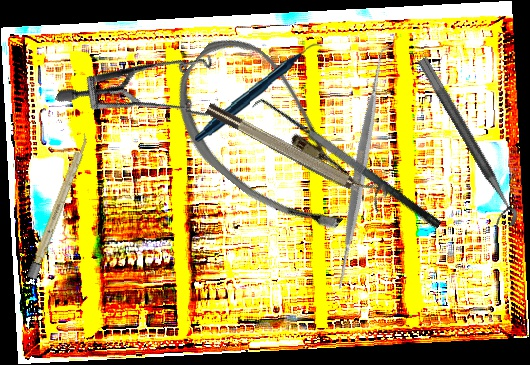Cannula: (149, 21, 394, 252)
Fixation Ring: (203, 92, 391, 213), (403, 56, 522, 234)
Handpiece: (190, 42, 328, 144)
Scalpel Handle: (26, 132, 92, 280)
Spatula Surgical: (234, 42, 488, 296), (248, 88, 443, 245)
Speculum: (54, 0, 239, 171)
